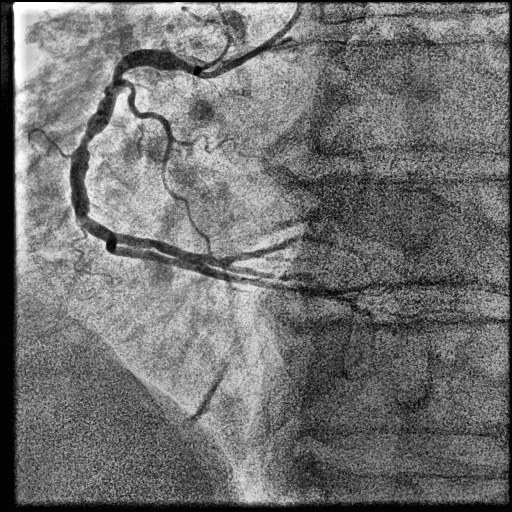pborca: (225, 232, 330, 264)
pda: (225, 266, 324, 285)
rca: (70, 49, 231, 269)
